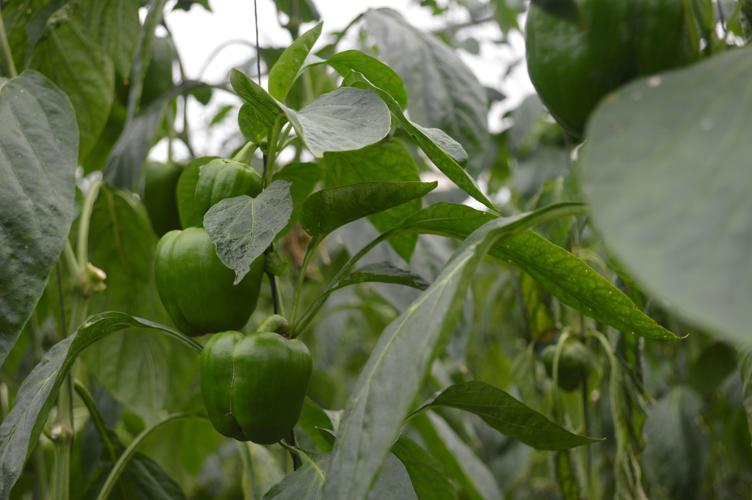BellPepper: (524, 6, 701, 113), (193, 332, 311, 441), (151, 230, 257, 327), (177, 157, 260, 223), (135, 165, 184, 231)
